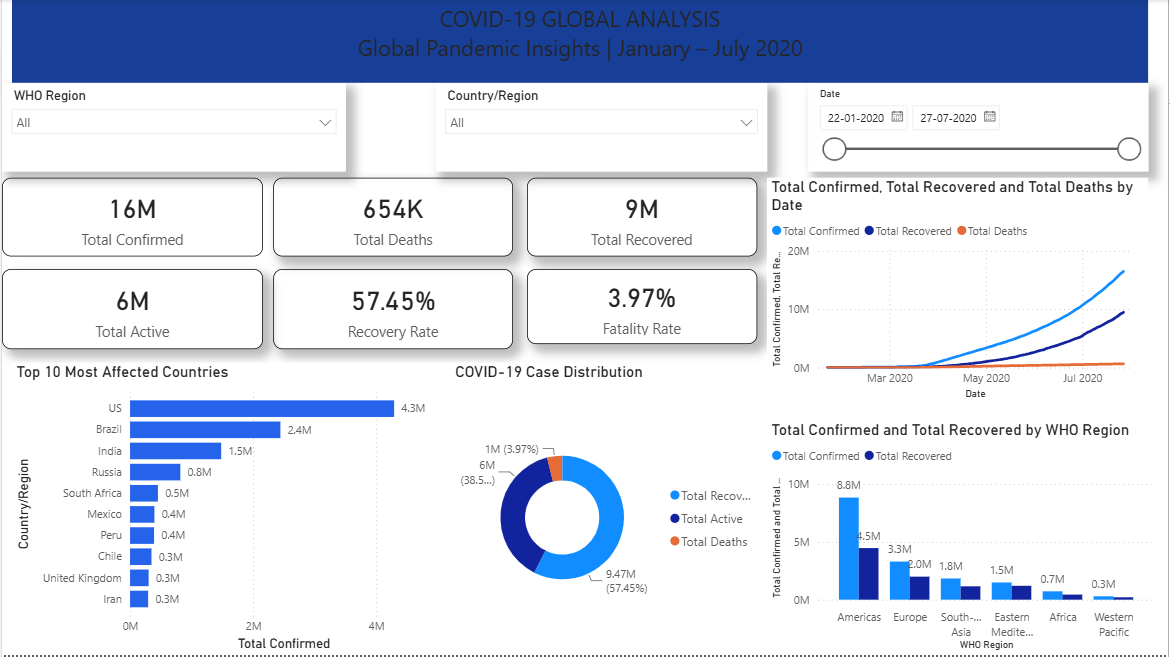

What the dashboard file says about the page in this screenshot:
{"tool":"powerbi","page":{"name":"Page 1","canvas":[1280,720],"ordinal":0},"visuals":[{"type":"card","title":"Total Confirmed Cases","fields":{"Values":["COVID.Total Confirmed"]},"box":[0,196.2,286.8,86.4],"z":0},{"type":"card","title":"Total Confirmed Cases","fields":{"Values":["COVID.Recovery Rate"]},"box":[297.8,296.4,263.5,87.8],"z":1000},{"type":"card","title":"Total Confirmed Cases","fields":{"Values":["COVID.Total Active"]},"box":[0,296.4,286.8,87.8],"z":2000},{"type":"card","title":"Total Confirmed Cases","fields":{"Values":["COVID.Total Deaths"]},"box":[297.8,196.2,263.5,86.4],"z":3000},{"type":"card","title":"Total Confirmed Cases","fields":{"Values":["COVID.Total Recovered"]},"box":[576.3,196.2,252.5,86.4],"z":4000},{"type":"card","title":"Total Confirmed Cases","fields":{"Values":["COVID.Fatality Rate"]},"box":[576.3,296.4,252.5,82.3],"z":5000},{"type":"clusteredBarChart","title":"Top 10 Most Affected Countries","fields":{"Category":["COVID.Country/Region"],"Y":["COVID.Total Confirmed"]},"box":[11,399.3,481.6,321.1],"z":6000},{"type":"donutChart","title":"COVID-19 Case Distribution","fields":{"Y":["COVID.Total Recovered","COVID.Total Active","COVID.Total Deaths"]},"box":[493,399,347,321],"z":7000},{"type":"clusteredColumnChart","fields":{"Category":["COVID.WHO Region"],"Y":["COVID.Total Confirmed","COVID.Total Recovered"]},"box":[839.8,462.4,430.9,258],"z":8000},{"type":"slicer","fields":{"Values":["COVID.Country/Region"]},"box":[476.2,91.9,363.6,97.4],"z":8001},{"type":"slicer","fields":{"Values":["COVID.WHO Region"]},"box":[0,91.9,377.4,97.4],"z":8002},{"type":"slicer","fields":{"Values":["COVID.Date"]},"box":[885.1,91.9,373.2,97.4],"z":8003},{"type":"textbox","box":[11,0,1247.3,91.9],"z":8004},{"type":"lineChart","fields":{"Y":["COVID.Total Confirmed","COVID.Total Recovered","COVID.Total Deaths"],"Category":["COVID.Date.Variation.Date Hierarchy.Day"]},"box":[839.8,196.2,418.5,248.4],"z":8005}]}

Visuals, with their boxes in screenshot pixels (x1, y1, x2, y2), scaled from the page's 1280x720 canvas onto the 1170x657 screenshot:
"Total Confirmed Cases" card: pyautogui.locateOnScreen(0, 179, 262, 258)
"Total Confirmed Cases" card: pyautogui.locateOnScreen(272, 270, 513, 351)
"Total Confirmed Cases" card: pyautogui.locateOnScreen(0, 270, 262, 351)
"Total Confirmed Cases" card: pyautogui.locateOnScreen(272, 179, 513, 258)
"Total Confirmed Cases" card: pyautogui.locateOnScreen(527, 179, 758, 258)
"Total Confirmed Cases" card: pyautogui.locateOnScreen(527, 270, 758, 346)
"Top 10 Most Affected Countries" clusteredBarChart: pyautogui.locateOnScreen(10, 364, 450, 656)
"COVID-19 Case Distribution" donutChart: pyautogui.locateOnScreen(451, 364, 768, 656)
clusteredColumnChart - COVID.WHO Region x COVID.Total Confirmed: pyautogui.locateOnScreen(768, 422, 1161, 656)
slicer - COVID.Country/Region: pyautogui.locateOnScreen(435, 84, 768, 173)
slicer - COVID.WHO Region: pyautogui.locateOnScreen(0, 84, 345, 173)
slicer - COVID.Date: pyautogui.locateOnScreen(809, 84, 1150, 173)
textbox: pyautogui.locateOnScreen(10, 0, 1150, 84)
lineChart - COVID.Total Confirmed x COVID.Total Recovered: pyautogui.locateOnScreen(768, 179, 1150, 406)
